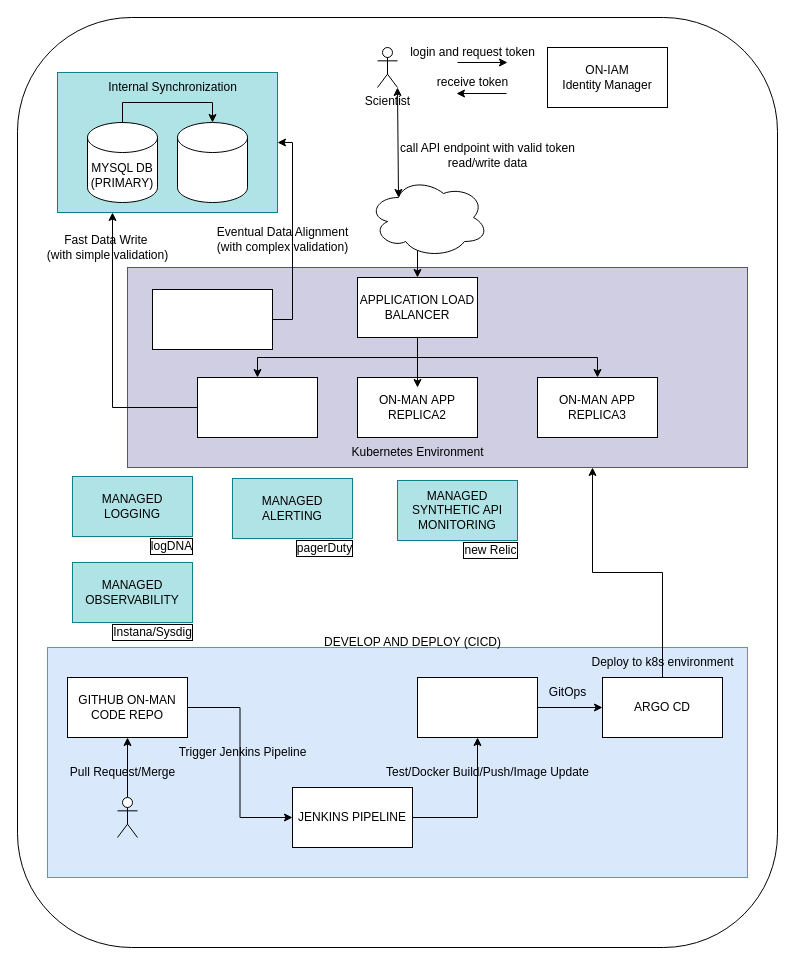
Some shapes in this 795 by 965 pixel diagram are drawn without their labels. The shapes that lost their labels are listed below. From the top down, each one's centre as x and y in pixels, then its label:
At (x=212, y=162): "MYSQL DB (STANDBY)".
At (x=428, y=217): "INGRESS PUBLIC ENDPOINT".
At (x=212, y=319): "ON-ALIGN APP CRONJOB".
At (x=257, y=407): "ON-MAN APP REPLICA1".
At (x=477, y=707): "GITHUB KUBERNETES REPO".
At (x=127, y=817): "Developer".
